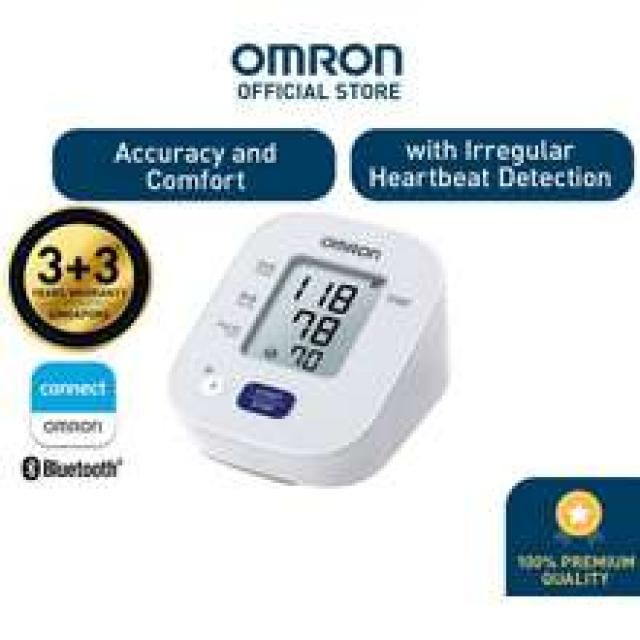dia: (282, 302, 349, 353)
pul: (269, 333, 334, 380)
ssd: (237, 234, 390, 402)
sys: (280, 265, 364, 317)
